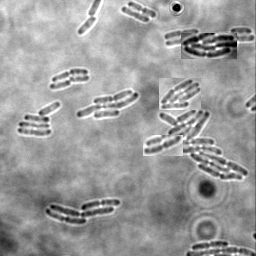Dividing: (143, 135, 183, 156), (52, 67, 89, 81), (128, 1, 157, 18), (164, 28, 200, 39), (192, 239, 229, 249)
Microcolony: (158, 109, 249, 180), (76, 88, 139, 119), (45, 199, 121, 224), (18, 101, 61, 136), (181, 33, 237, 59), (159, 78, 201, 110), (214, 27, 255, 48)
Rod: (121, 5, 150, 23), (78, 16, 99, 34), (50, 79, 72, 89), (69, 73, 90, 82)
